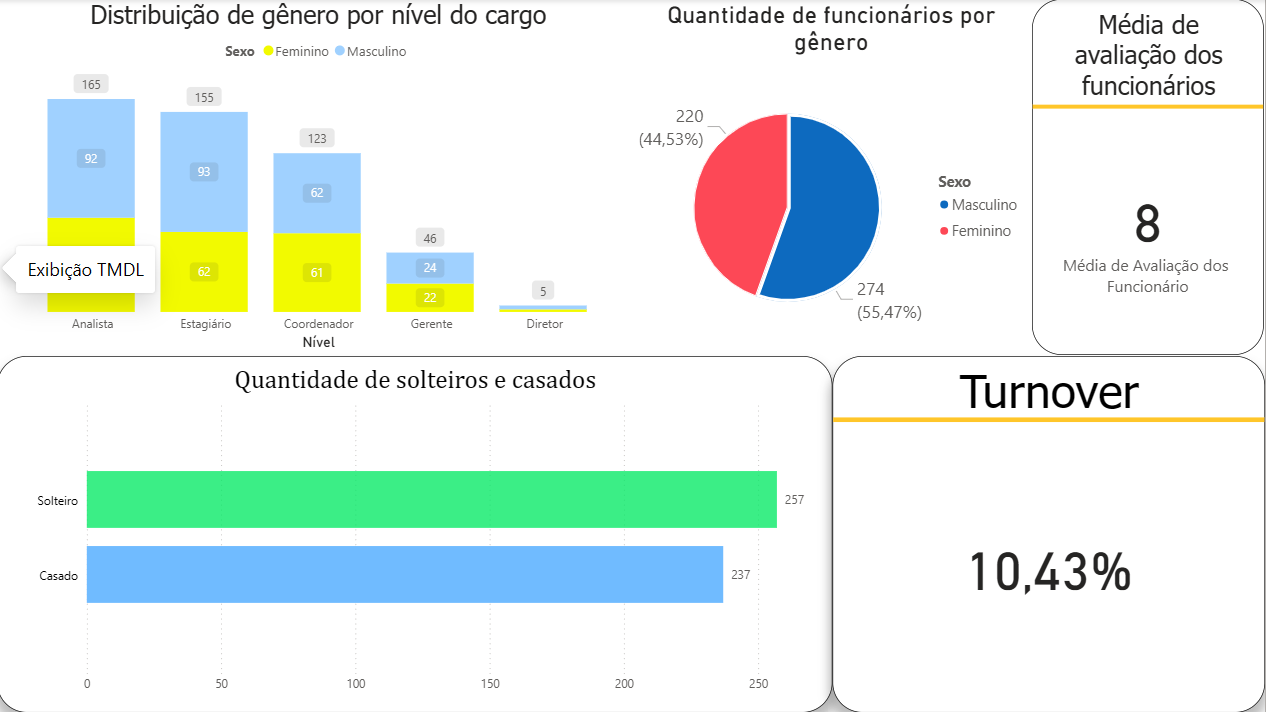

What the dashboard file says about the page in this screenshot:
{"tool":"powerbi","page":{"name":"Página 1","canvas":[1280,720],"ordinal":0},"visuals":[{"type":"pieChart","title":"Quantidade de funcionários por gênero","fields":{"Category":["BaseFuncionarios.Sexo"],"Y":["CountNonNull(BaseFuncionarios.Sexo)"]},"box":[641,1,403.6,358.9],"z":0},{"type":"card","title":"Média de avaliação dos funcionários","fields":{"Values":["Avg(BaseFuncionarios.Avaliação do Funcionário)"]},"box":[1045,0,234.3,359.1],"z":1000},{"type":"columnChart","title":"Distribuição de gênero por nível do cargo","fields":{"Category":["BaseFuncionarios.Nível"],"Y":["CountNonNull(BaseFuncionarios.Sexo)"],"Series":["BaseFuncionarios.Sexo"]},"box":[0,0,648.8,358.9],"z":2000},{"type":"clusteredBarChart","title":"Quantidade de solteiros e casados  ","fields":{"Category":["BaseFuncionarios.Estado Civil"],"Y":["CountNonNull(BaseFuncionarios.Estado Civil)"]},"box":[0,359.9,843.3,359.9],"z":3000},{"type":"card","title":"Turnover","fields":{"Values":["BaseFuncionarios.Turnover"]},"box":[843,359.9,436.7,359.9],"z":4003}]}

Visuals, with their boxes in screenshot pixels (x1, y1, x2, y2), scaled from the page's 1280x720 canvas onto the 1266x712 screenshot:
"Quantidade de funcionários por gênero" pieChart: <box>634,1,1033,356</box>
"Média de avaliação dos funcionários" card: <box>1034,0,1265,355</box>
"Distribuição de gênero por nível do cargo" columnChart: <box>0,0,642,355</box>
"Quantidade de solteiros e casados  " clusteredBarChart: <box>0,356,834,711</box>
"Turnover" card: <box>834,356,1265,711</box>
